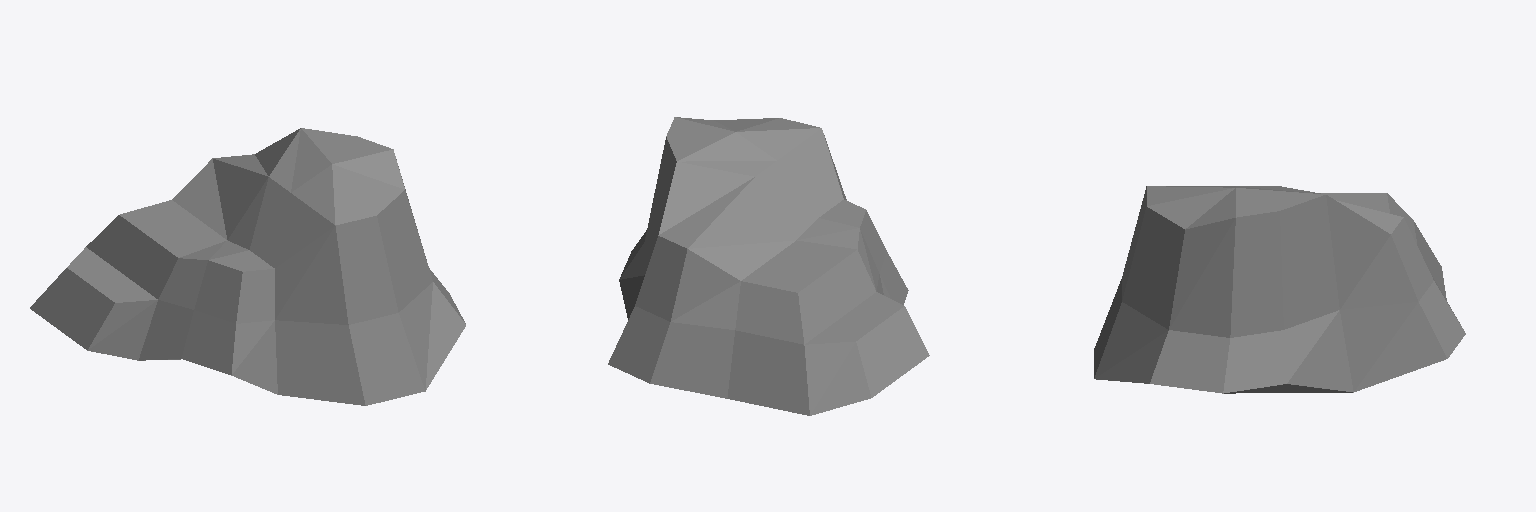
Rendered from stone_middle_01.obj.
3 renders of one model, left to right at view 1: azimuth 30°, elevation 25°; view 2: azimuth 150°, elevation 25°; view 3: azimuth 270°, elevation 25°, orthographic.
Bounding box in the file's own units: 1.76 × 0.9617 × 1.71.